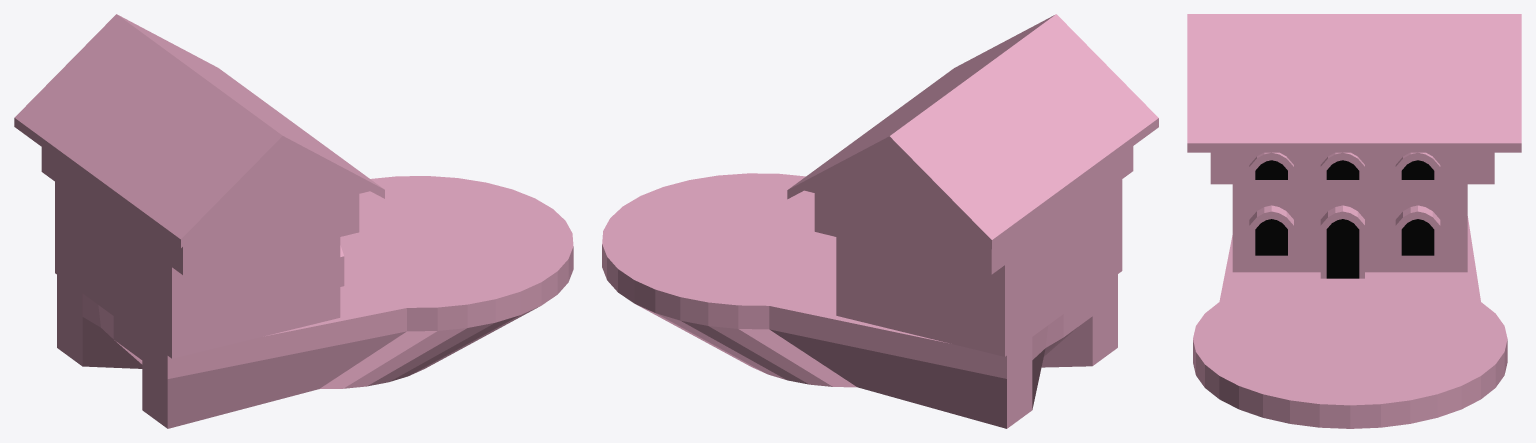
File: workShop01.glb
3 renders of one model, left to right at view 1: azimuth 30°, elevation 25°; view 2: azimuth 150°, elevation 25°; view 3: azimuth 270°, elevation 25°, orthographic.
Visible parts, largest first — view 1: WorkShop01; view 2: WorkShop01; view 3: WorkShop01.
Part boxes in pixels (x1,y1,x2,y2): WorkShop01: [14, 14, 573, 428]; WorkShop01: [602, 14, 1158, 428]; WorkShop01: [1187, 14, 1521, 428].
Bounding box in the file's own units: 3.34 × 2.05 × 2.13.
